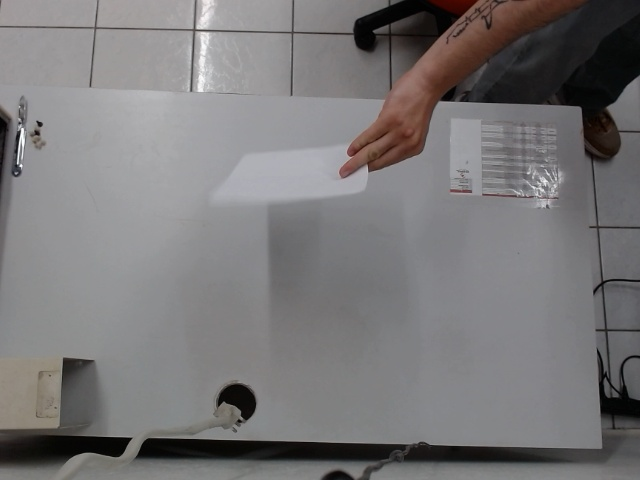divisor: (211, 143, 371, 201)
